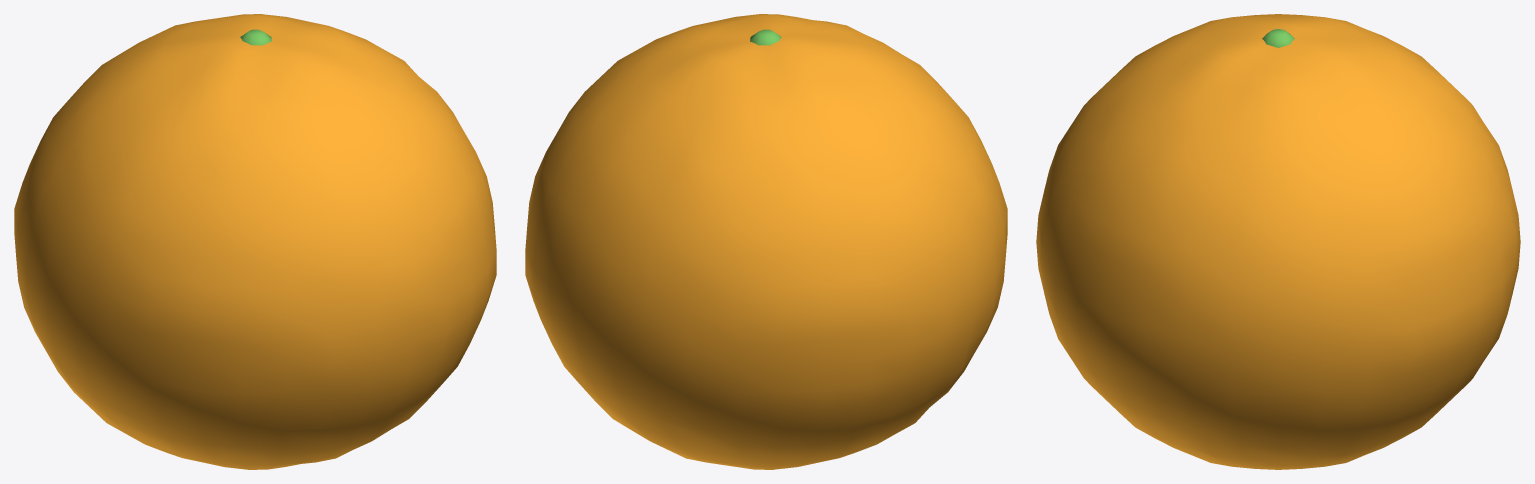
Rendered from Orange_Whole.fbx.
The picture shows the model from 3 angles, left to right: view 1: azimuth 30°, elevation 25°; view 2: azimuth 150°, elevation 25°; view 3: azimuth 270°, elevation 25°; orthographic projection.
Parts seen in each view (by area): view 1: Orange_Whole; view 2: Orange_Whole; view 3: Orange_Whole.
Part boxes in pixels (bbox=[...]): Orange_Whole: bbox=[14, 14, 496, 469]; Orange_Whole: bbox=[525, 14, 1007, 469]; Orange_Whole: bbox=[1036, 14, 1520, 469].
Bounding box in the file's own units: 0.9 × 0.8497 × 0.9.
